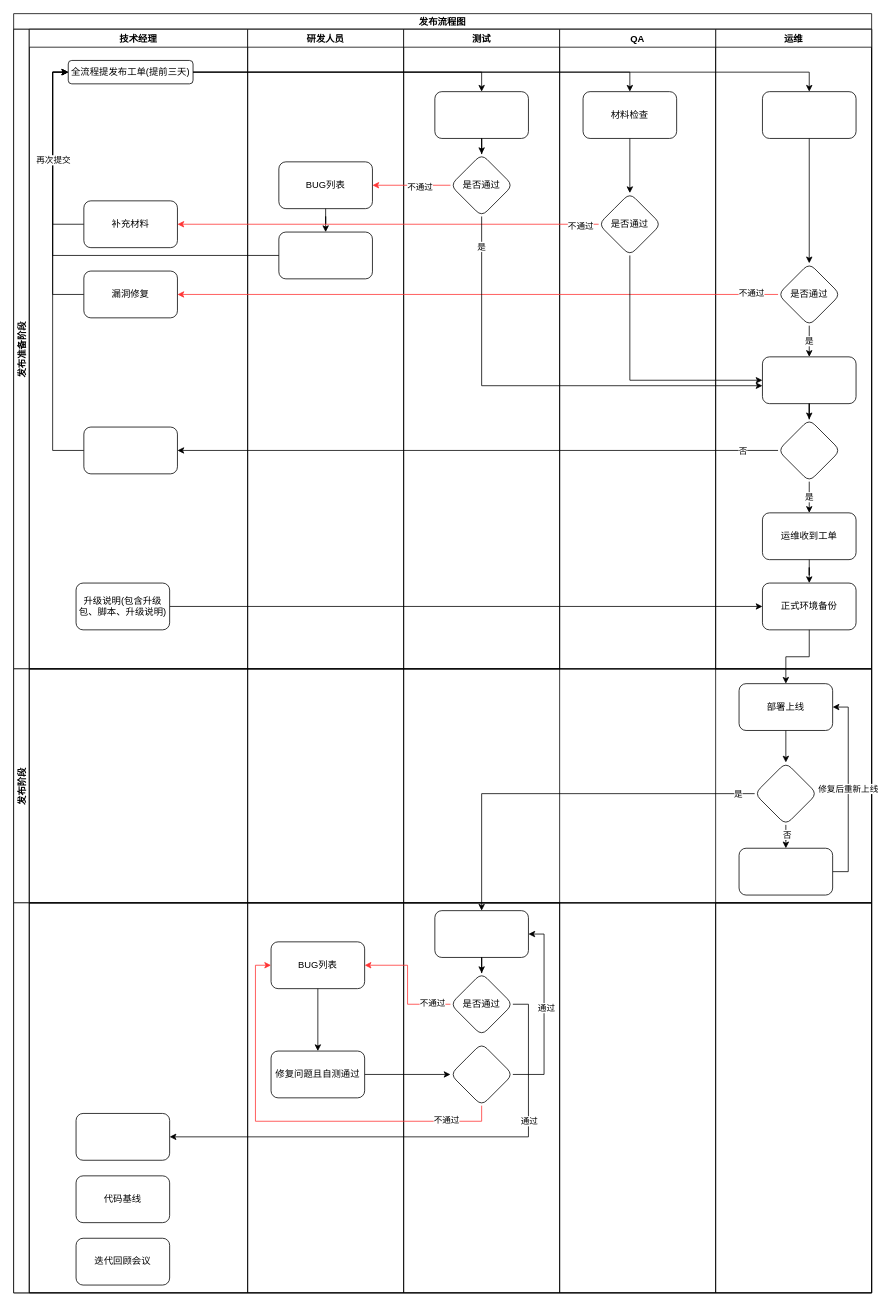
This 892x1307 diagram has some shape labels left out. The box of each missing label's shape, as (x1, y1, x2, y2) in pixels:
发布回滚: (738, 847, 833, 895)
安全扫描: (762, 91, 856, 138)
是否同意发布: (777, 418, 840, 482)
是否成功: (754, 762, 817, 825)
最终验收: (75, 1113, 170, 1160)
根据驳回意见完善: (83, 426, 177, 474)
测试审批: (434, 91, 528, 138)
测试环境验证: (450, 1042, 513, 1106)
签发人: (762, 356, 856, 404)
线上验证: (434, 910, 528, 957)
线上验证阶段: (13, 902, 872, 1293)
问题修复且自测通过: (278, 231, 372, 279)
